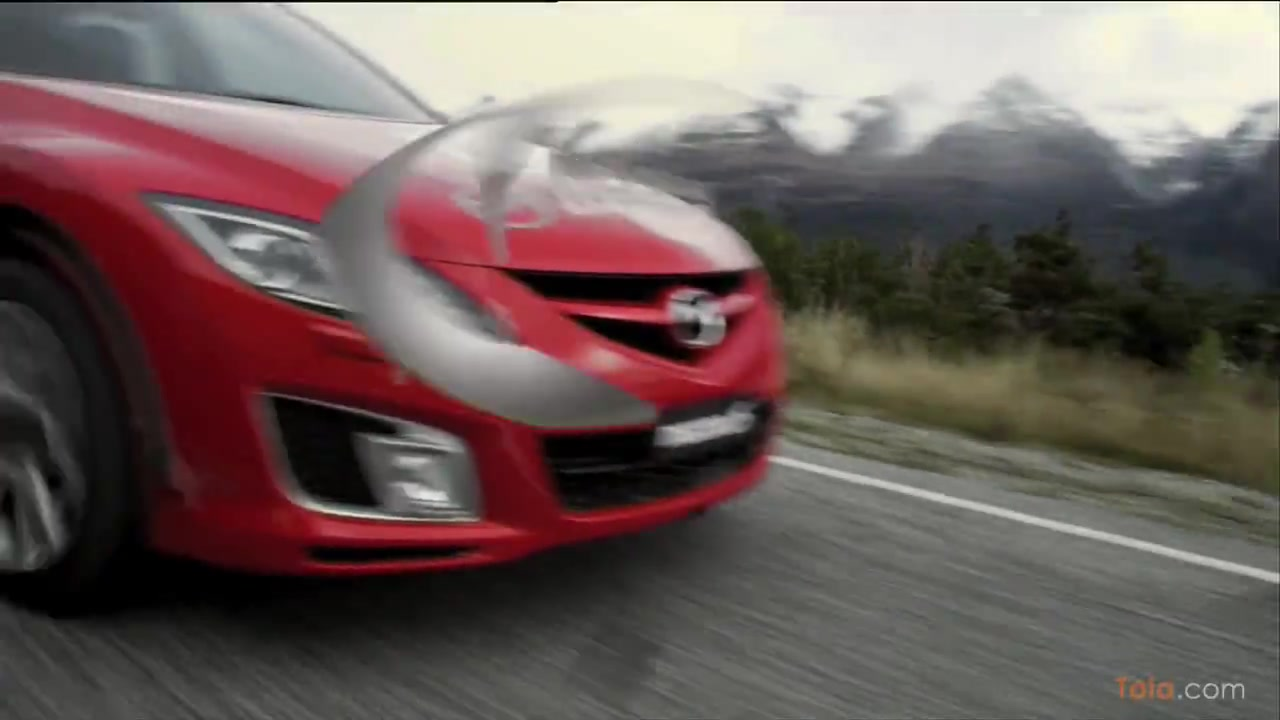car: (4, 1, 785, 609)
